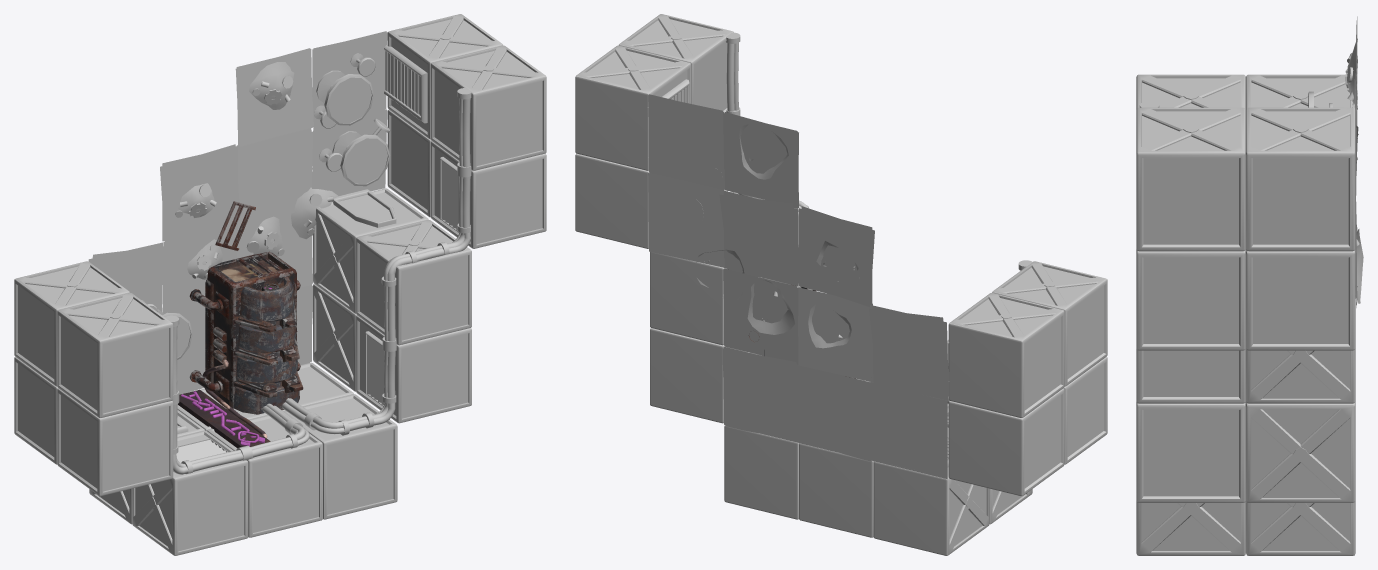
The picture shows the model from 3 angles, left to right: view 1: azimuth 30°, elevation 25°; view 2: azimuth 150°, elevation 25°; view 3: azimuth 270°, elevation 25°; orthographic projection. The views are drawn at different scales.
Parts seen in each view (by area): view 1: SlumGenirator_SlumGenerator_0, SlumUnit1_SlumHousing1_0, SlumUnit17_SlumHousing1_0, SlumUnit13_SlumHousing1_0, SlumUnit3_SlumHousing1_0, SlumUnit5_SlumHousing1_0, SlumUnit9_SlumHousing1_0, SlumUnit15_SlumHousing1_0, SlumUnit11_SlumHousing1_0, SlumUnit7_SlumHousing1_0, SlumUnit2_SlumHousing1_0, SlumFloor4_SlumSetdressing1_0 (+32 smaller); view 2: SlumUnit2_SlumHousing1_0, SlumUnit18_SlumHousing1_0, SlumUnit4_SlumHousing1_0, SlumUnit6_SlumHousing1_0, SlumUnit1_SlumHousing1_0, SlumFloor8_SlumSetdressing1_0, SlumFloor4_SlumSetdressing1_0, SlumFloor9_SlumSetdressing1_0, SlumFloor1_SlumSetdressing1_0, SlumFloor10_SlumSetdressing1_0, SlumFloor11_SlumSetdressing1_0, SlumFloor3_SlumSetdressing1_0 (+14 smaller); view 3: SlumUnit17_SlumHousing1_0, SlumUnit18_SlumHousing1_0, SlumUnit16_SlumHousing1_0, SlumUnit15_SlumHousing1_0, SlumUnit11_SlumHousing1_0, SlumUnit12_SlumHousing1_0, SlumUnit13_SlumHousing1_0, SlumUnit14_SlumHousing1_0, SlumUnit10_SlumHousing1_0, SlumUnit9_SlumHousing1_0, SlumUnit1_SlumHousing1_0, SlumUnit2_SlumHousing1_0 (+2 smaller).
Part boxes in pixels (x1,y1,x2,y2): SlumGenirator_SlumGenerator_0: [178, 201, 303, 447]; SlumUnit1_SlumHousing1_0: [57, 292, 173, 417]; SlumUnit17_SlumHousing1_0: [430, 45, 546, 170]; SlumUnit13_SlumHousing1_0: [356, 220, 471, 345]; SlumUnit3_SlumHousing1_0: [57, 388, 173, 496]; SlumUnit5_SlumHousing1_0: [132, 430, 248, 555]; SlumUnit9_SlumHousing1_0: [283, 394, 397, 519]; SlumUnit15_SlumHousing1_0: [430, 141, 546, 248]; SlumUnit11_SlumHousing1_0: [356, 315, 471, 423]; SlumUnit7_SlumHousing1_0: [207, 415, 322, 537]; SlumUnit2_SlumHousing1_0: [14, 261, 129, 386]; SlumFloor4_SlumSetdressing1_0: [237, 128, 312, 223]; SlumUnit2_SlumHousing1_0: [948, 292, 1064, 417]; SlumUnit18_SlumHousing1_0: [575, 45, 691, 170]; SlumUnit4_SlumHousing1_0: [948, 388, 1064, 496]; SlumUnit6_SlumHousing1_0: [873, 438, 989, 555]; SlumUnit1_SlumHousing1_0: [992, 261, 1107, 386]; SlumFloor8_SlumSetdressing1_0: [869, 305, 949, 400]; SlumFloor4_SlumSetdressing1_0: [719, 190, 802, 286]; SlumFloor9_SlumSetdressing1_0: [722, 346, 798, 442]; SlumFloor1_SlumSetdressing1_0: [648, 94, 724, 190]; SlumFloor10_SlumSetdressing1_0: [798, 365, 872, 461]; SlumFloor11_SlumSetdressing1_0: [873, 383, 947, 479]; SlumFloor3_SlumSetdressing1_0: [648, 173, 724, 267]; SlumUnit17_SlumHousing1_0: [1136, 107, 1245, 251]; SlumUnit18_SlumHousing1_0: [1246, 107, 1355, 251]; SlumUnit16_SlumHousing1_0: [1246, 249, 1355, 350]; SlumUnit15_SlumHousing1_0: [1136, 249, 1245, 350]; SlumUnit11_SlumHousing1_0: [1136, 401, 1245, 502]; SlumUnit12_SlumHousing1_0: [1246, 401, 1355, 502]; SlumUnit13_SlumHousing1_0: [1136, 348, 1245, 403]; SlumUnit14_SlumHousing1_0: [1246, 348, 1355, 403]; SlumUnit10_SlumHousing1_0: [1246, 501, 1355, 555]; SlumUnit9_SlumHousing1_0: [1136, 501, 1245, 555]; SlumUnit1_SlumHousing1_0: [1136, 74, 1245, 109]; SlumUnit2_SlumHousing1_0: [1246, 74, 1352, 109].
Bounding box in the file's own units: 10.69 × 8.93 × 3.69.
